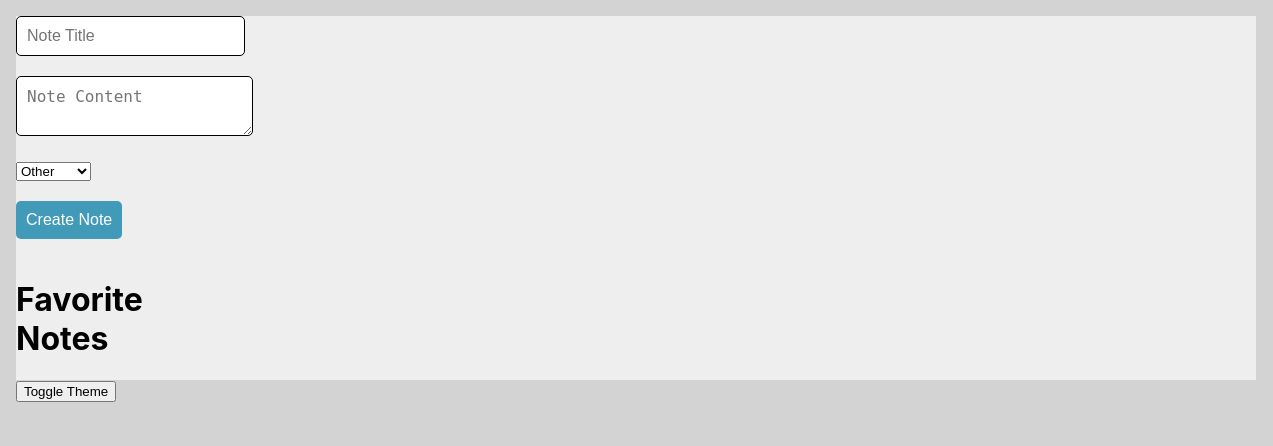
Scenario: Create StickyNote › displays all created notes
Create a note
Type "Test Note 1" into the field with placeholder "Note Title".
click(130, 36); type("Test Note 1")  # box [16,16,245,56]
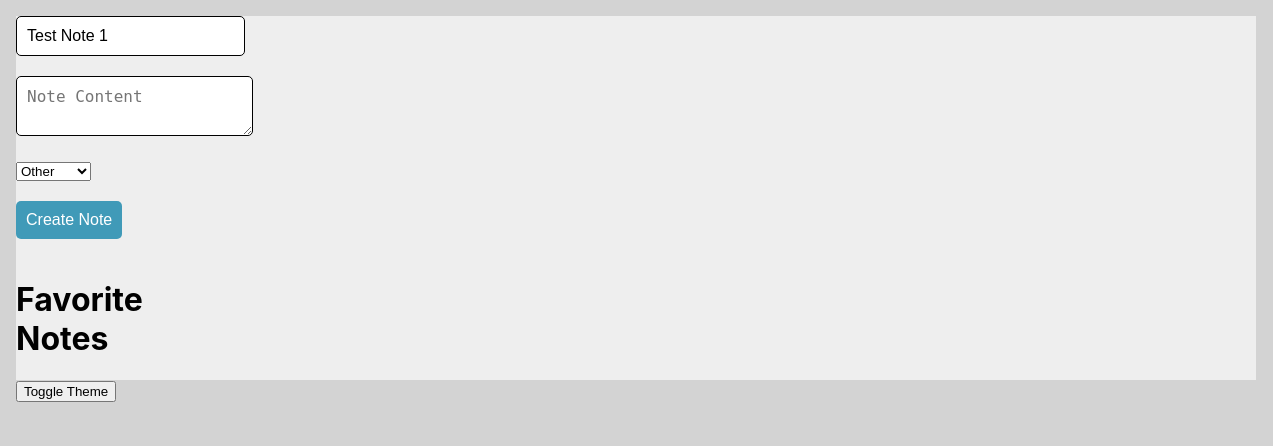
Type "Test Content 1" into the text box with placeholder "Note Content".
click(134, 106); type("Test Content 1")  # box [16,76,253,136]
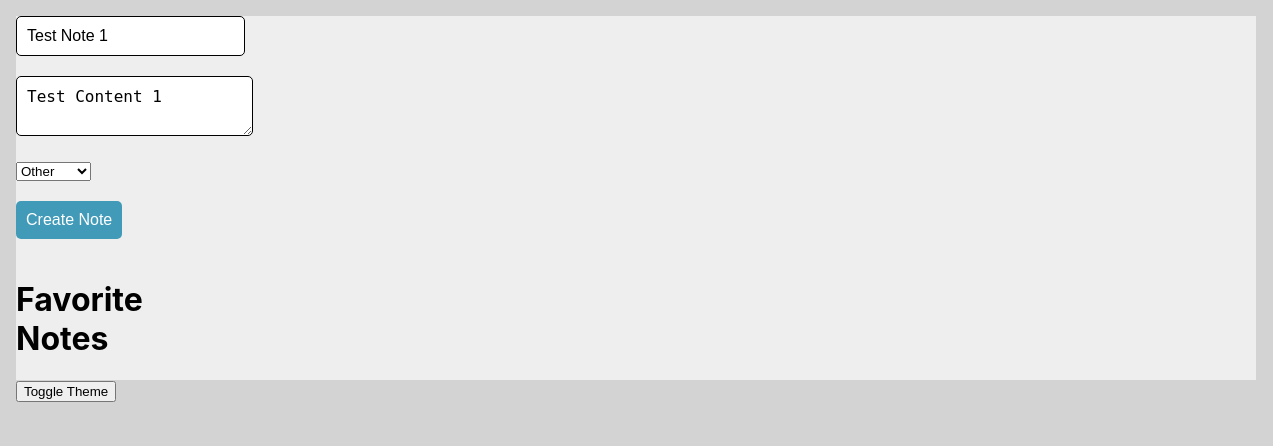
Click the button "Create Note".
click(69, 220)  # box [16,201,122,239]
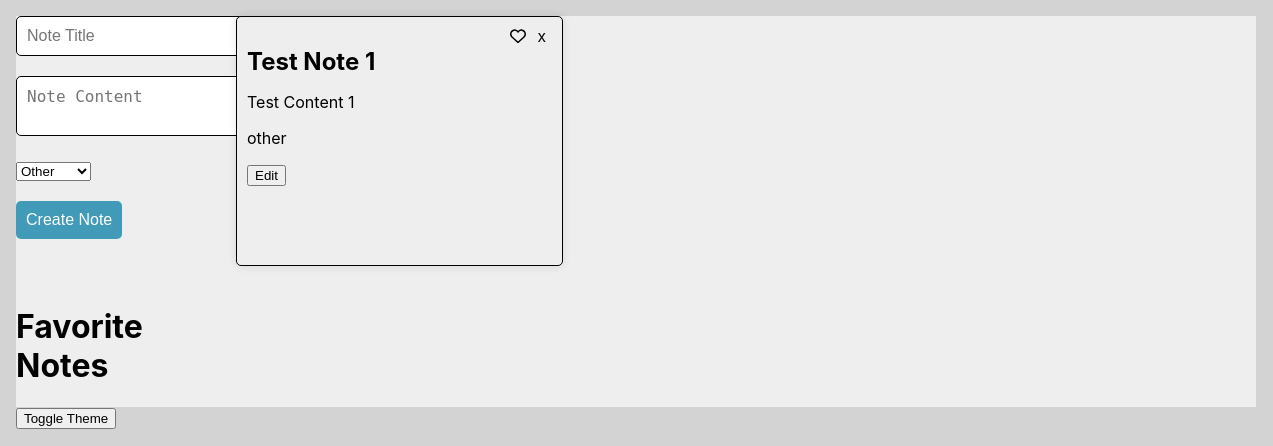
Check: the element with test id "note-item-1" is shown, box [236,16,563,266]
